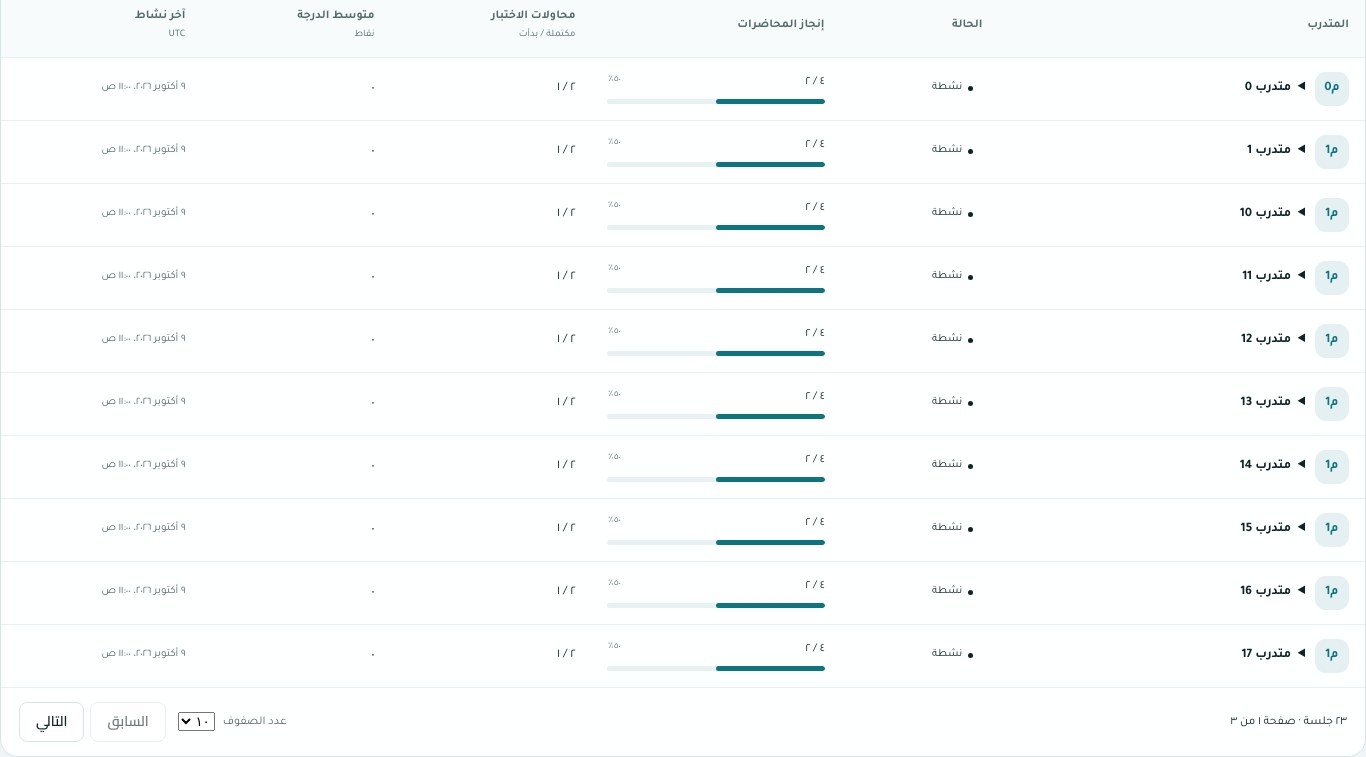
Test: real guest analytics without invented percentages or unique people › paginates and resets to page one when a new filter shrinks the results
The width and height of the screenshot is (1366, 757).
(page scrolled)
Click the button "التالي" at (52, 722), box [19,702,84,742]
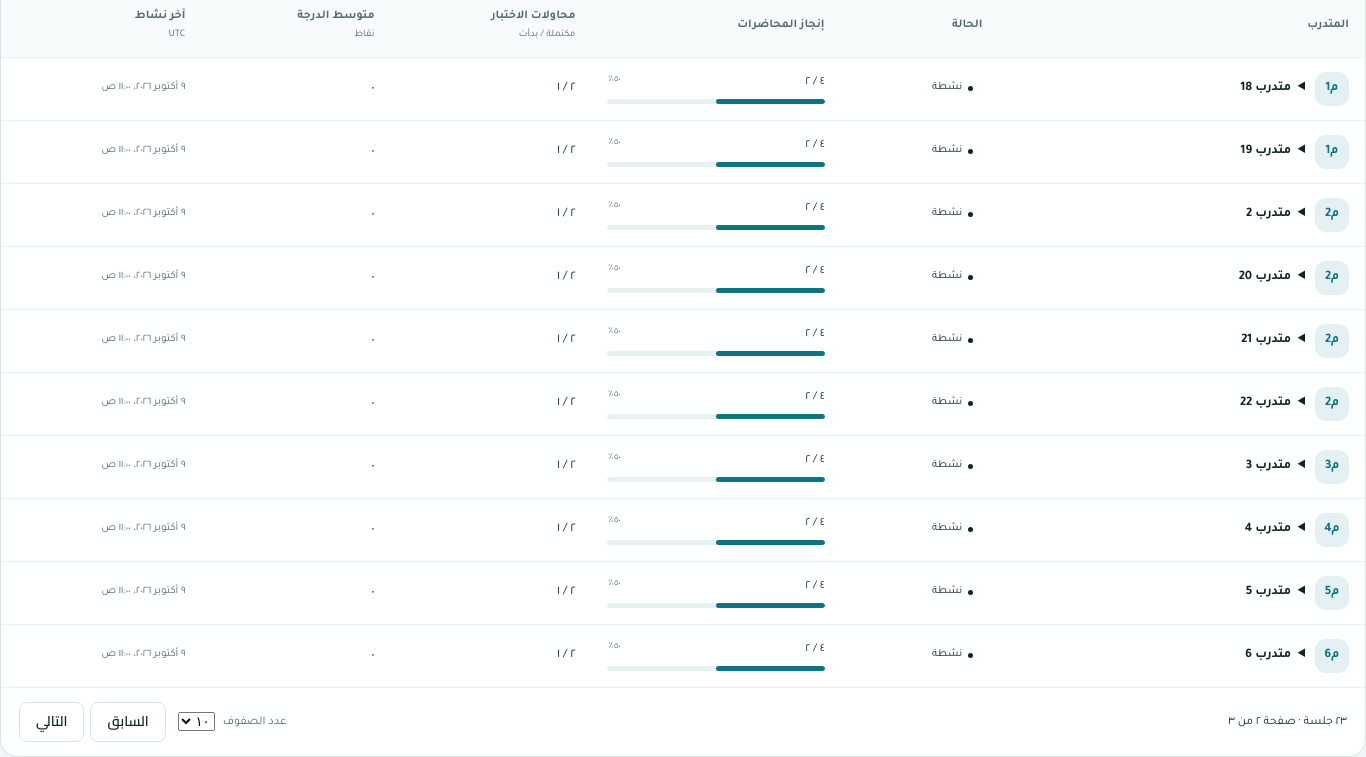
Click the button "التالي" at (52, 722), box [19,702,84,742]
(page scrolled)
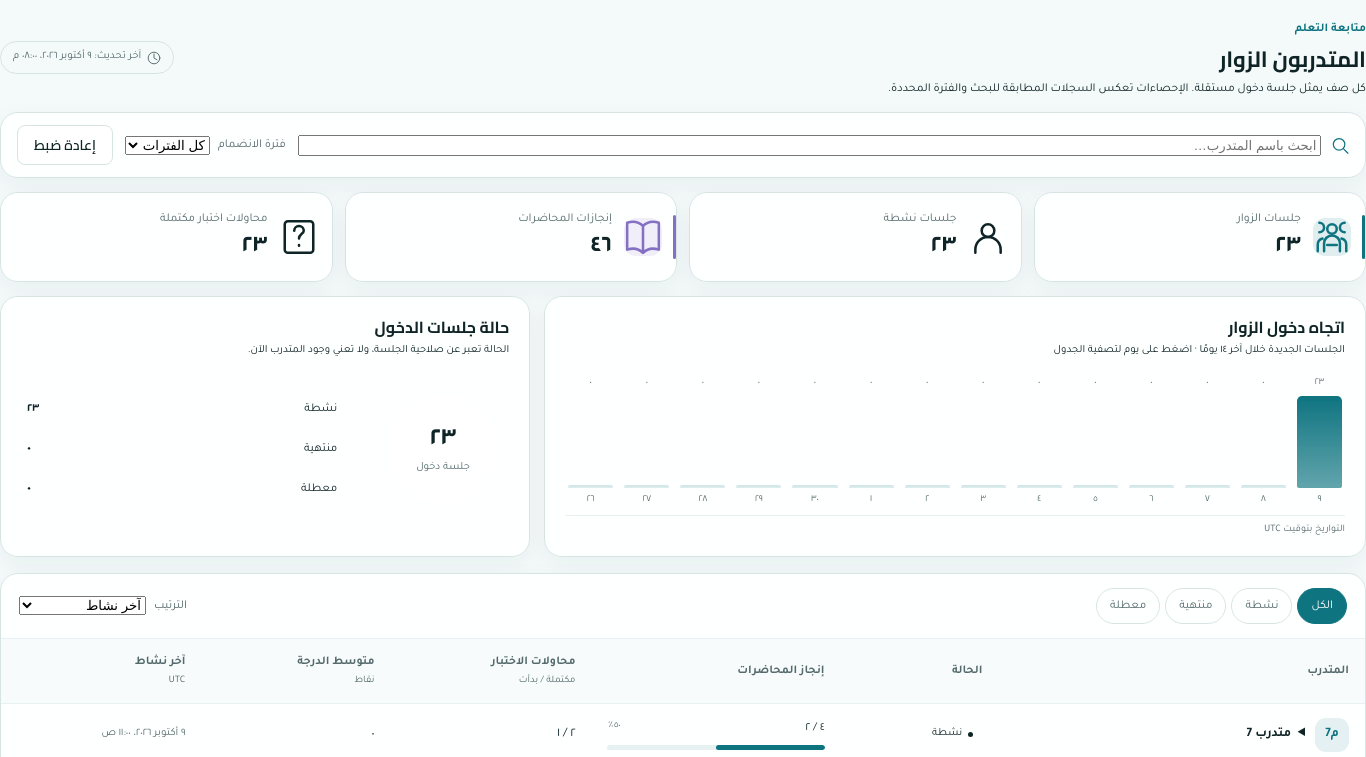
Expected: the number of rows is 4
Type "متدرب 22" into the search field at (809, 145), box [298,134,1320,156]
(page scrolled)
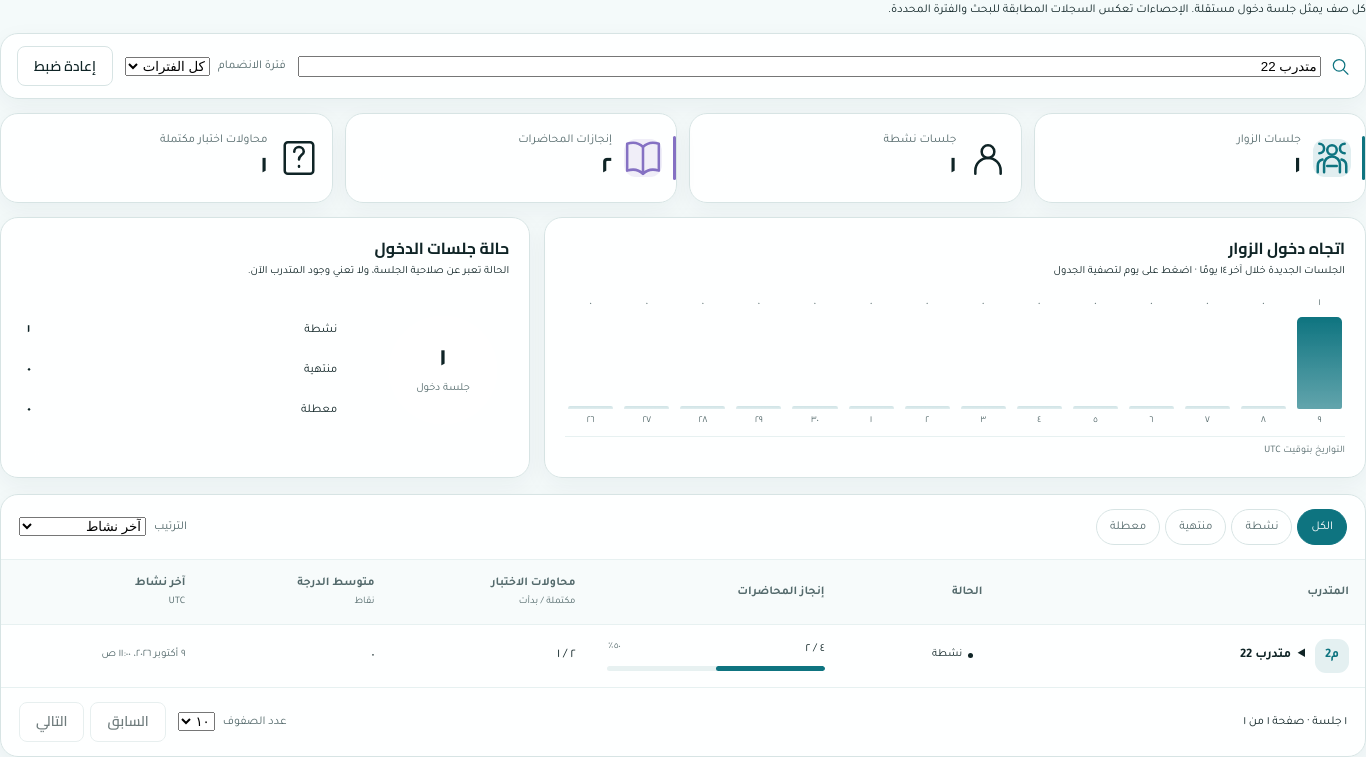
Expected: the number of rows is 2, [1,559,1365,624]; [1,624,1365,686]
Expected: the button "السابق" is disabled, [90,702,166,742]
